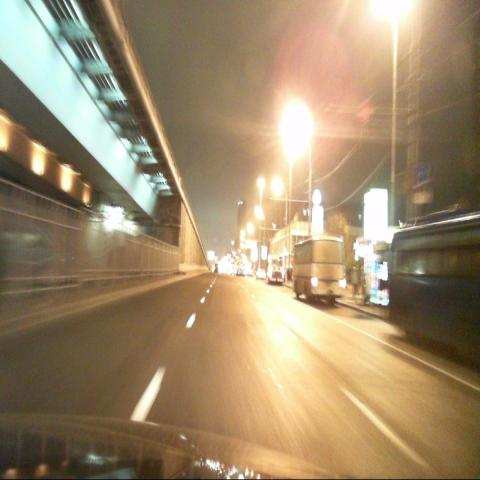6_6: (419, 161, 433, 187)
